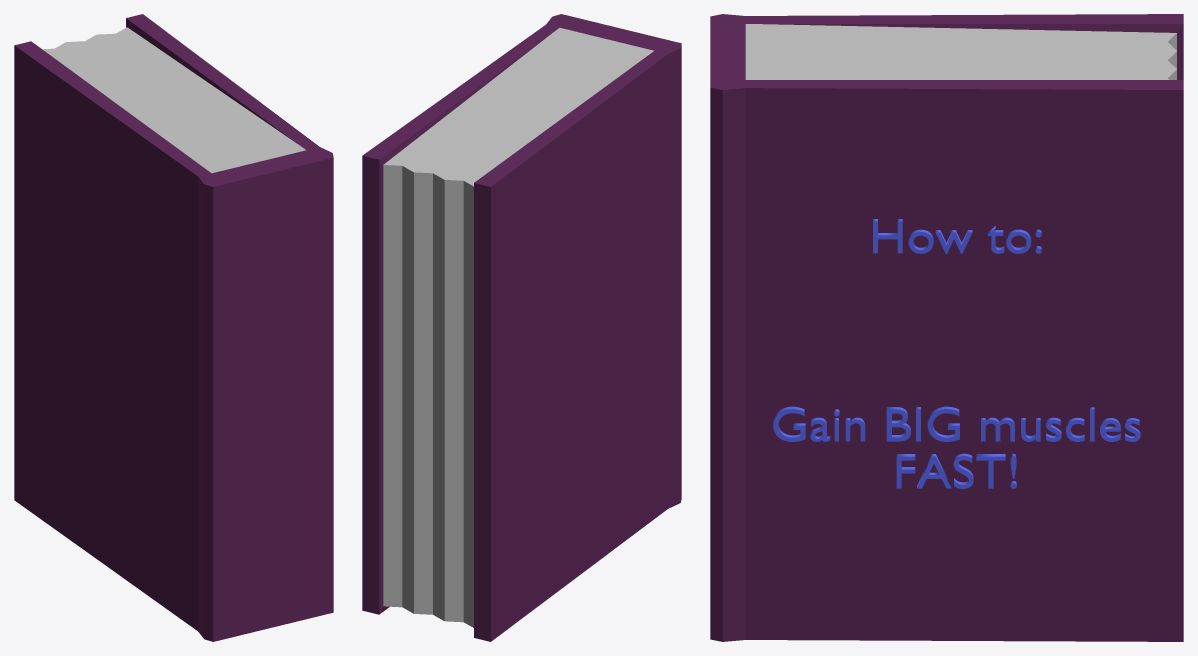
File: book 23.11.2023.fbx
The picture shows the model from 3 angles, left to right: view 1: azimuth 30°, elevation 25°; view 2: azimuth 150°, elevation 25°; view 3: azimuth 270°, elevation 25°; orthographic projection. The views are drawn at different scales.
Visible parts, largest first — view 1: Cube, Cube.001; view 2: Cube, Cube.001; view 3: Cube, Cube.001, Text.
Part boxes in pixels (x1,y1,x2,y2): Cube: (14, 14, 333, 641); Cube.001: (42, 27, 305, 173); Cube: (362, 14, 681, 641); Cube.001: (383, 28, 653, 627); Cube: (710, 14, 1183, 641); Cube.001: (745, 24, 1176, 79); Text: (773, 219, 1140, 488).
Bounding box in the file's own units: 8.32 × 27.5 × 21.36.
